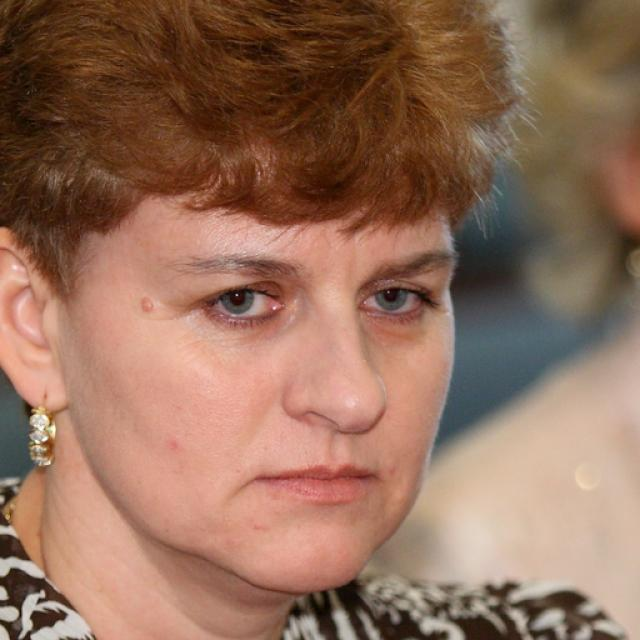Acne: (135, 297, 156, 315)
